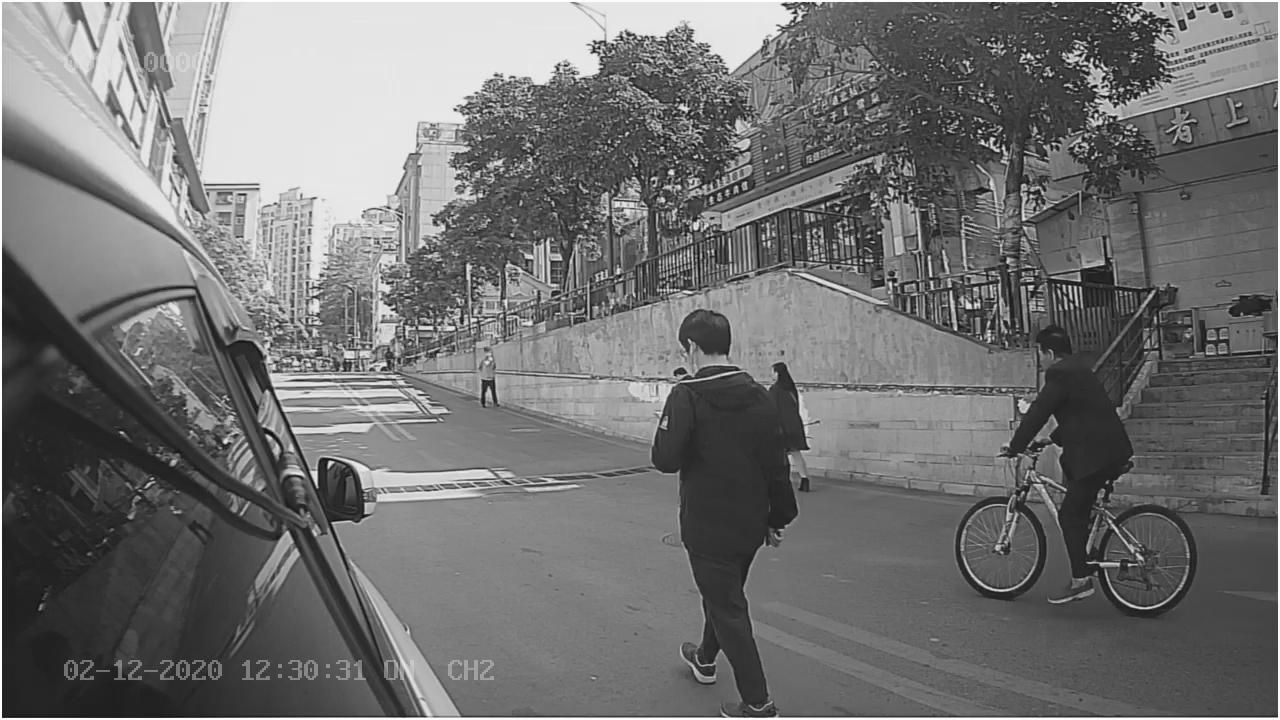person: (644, 304, 808, 553)
